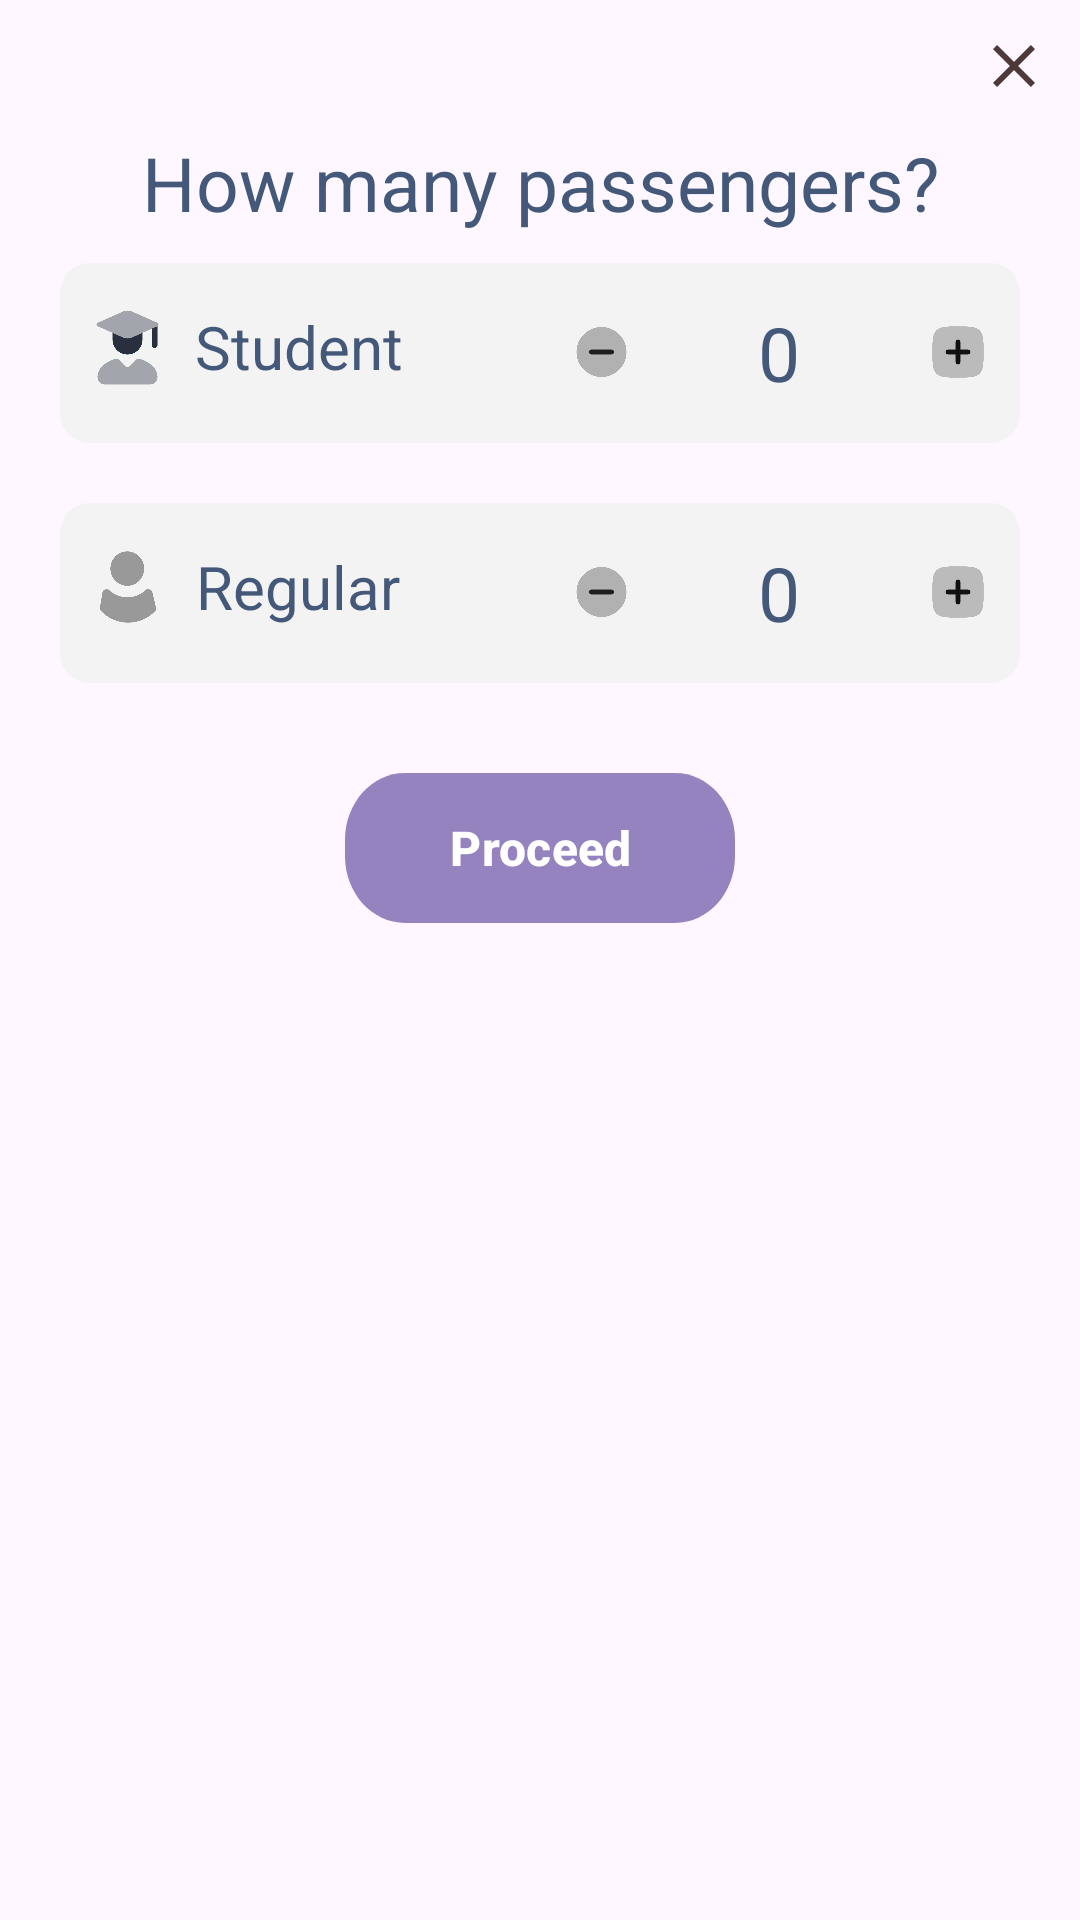

Where icons sit on this 1080 × 1920 app screen, as bbox(x1, y1, x2, y2):
close: bbox(993, 45, 1035, 87)
minus: bbox(577, 327, 626, 377), bbox(577, 567, 626, 617)
person: bbox(100, 551, 156, 623)
plus: bbox(932, 326, 984, 378), bbox(932, 566, 984, 618)
